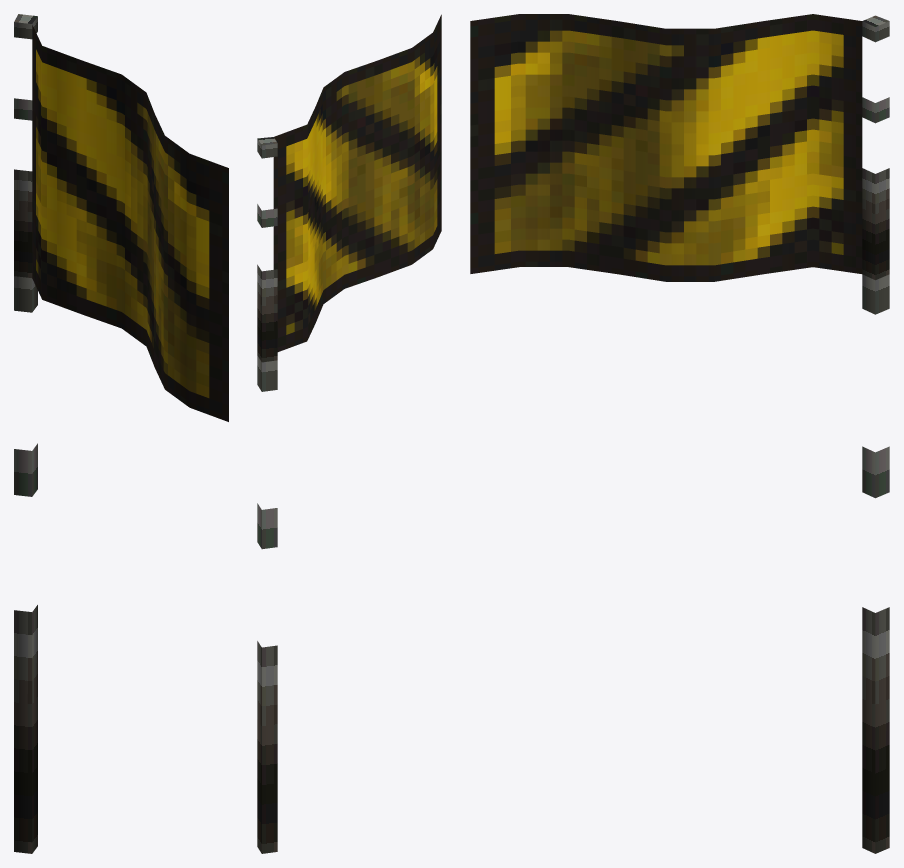
The picture shows the model from 3 angles, left to right: view 1: azimuth 30°, elevation 25°; view 2: azimuth 150°, elevation 25°; view 3: azimuth 270°, elevation 25°; orthographic projection. The views are drawn at different scales.
Parts seen in each view (by area): view 1: Conft_obj_028; view 2: Conft_obj_028; view 3: Conft_obj_028.
Boxes of the visible parts, x1,y1,x2,y2 form: Conft_obj_028: (14, 14, 228, 853); Conft_obj_028: (257, 14, 441, 853); Conft_obj_028: (470, 14, 889, 853).
Size of the model in its own units: 0.0566 by 1.49 by 0.6836.
Materials: 2 (2 with a texture image).
